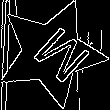M_SW: (17, 19, 86, 87)
